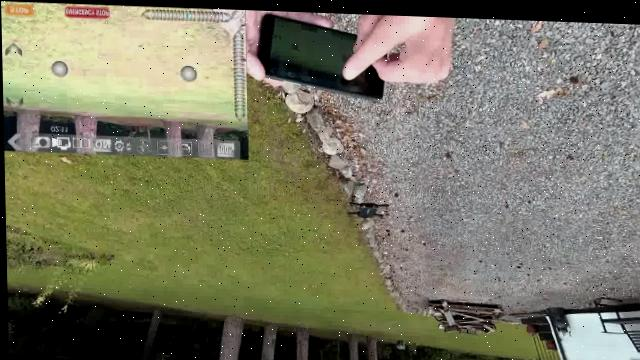drone: (325, 183, 406, 230)
